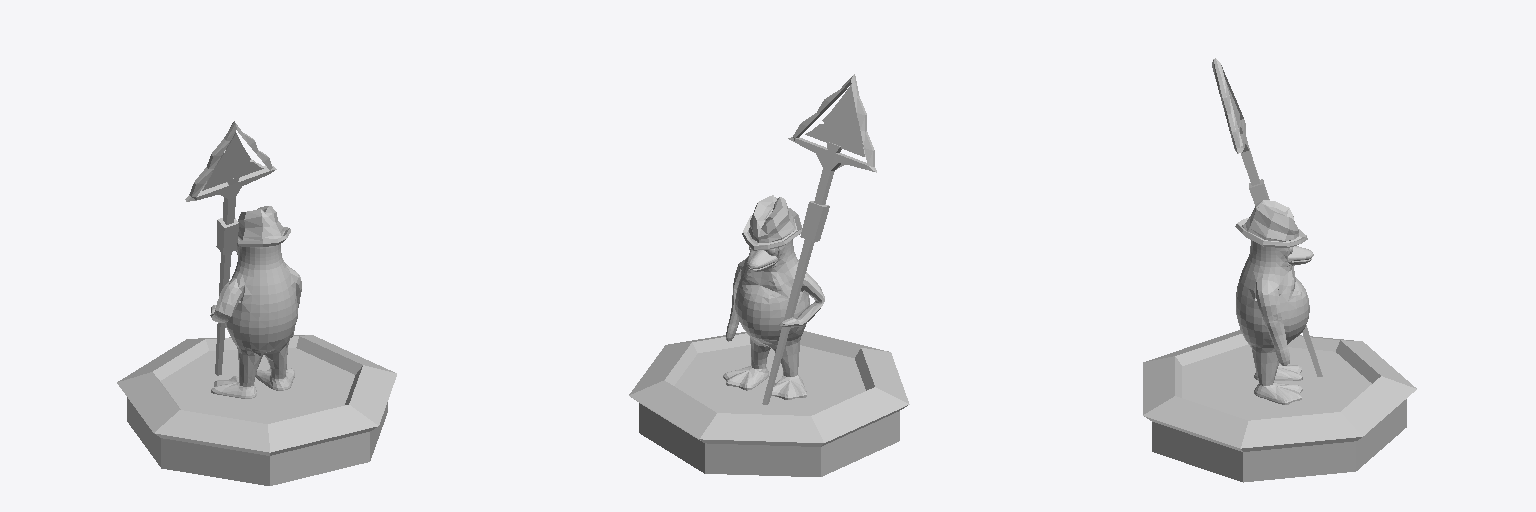
The model's file is Tux Bishop.obj.
The picture shows the model from 3 angles: view 1: azimuth 30°, elevation 25°; view 2: azimuth 150°, elevation 25°; view 3: azimuth 270°, elevation 25°; orthographic projection.
Parts seen in each view (by area): view 1: [MESH]_Base_Circle.001; view 2: [MESH]_Base_Circle.001; view 3: [MESH]_Base_Circle.001.
Boxes of the visible parts, x1=… form: [MESH]_Base_Circle.001: x1=117, y1=121, x2=396, y2=485; [MESH]_Base_Circle.001: x1=629, y1=74, x2=909, y2=476; [MESH]_Base_Circle.001: x1=1143, y1=58, x2=1416, y2=482.
Bounding box in the file's own units: 1.89 × 2.54 × 1.85.